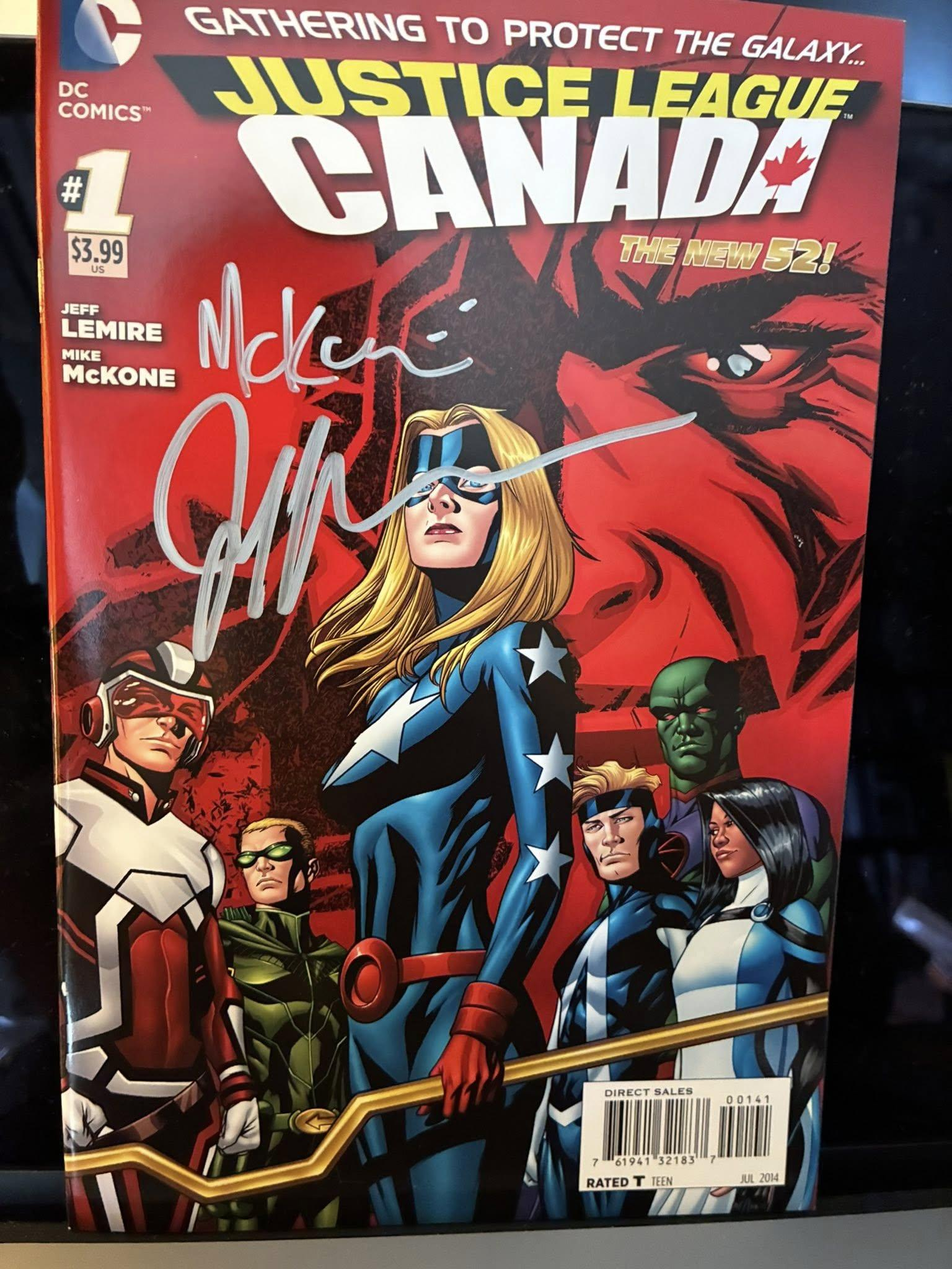comic: (39, 0, 901, 1232)
